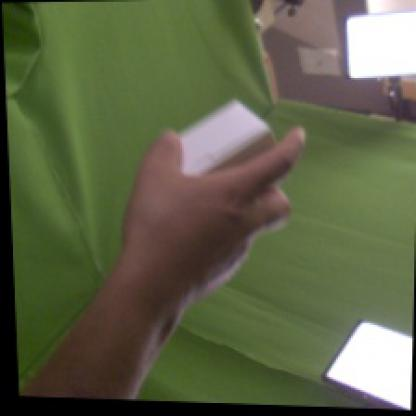Hand: (119, 126, 306, 312)
